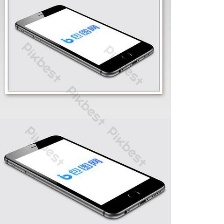phone: (2, 131, 169, 221), (12, 1, 157, 79)
